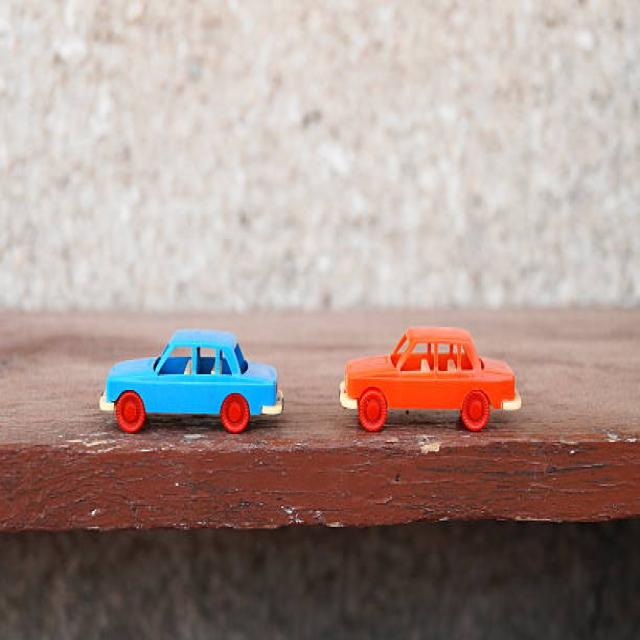Car: (98, 327, 284, 434), (338, 324, 522, 432)
